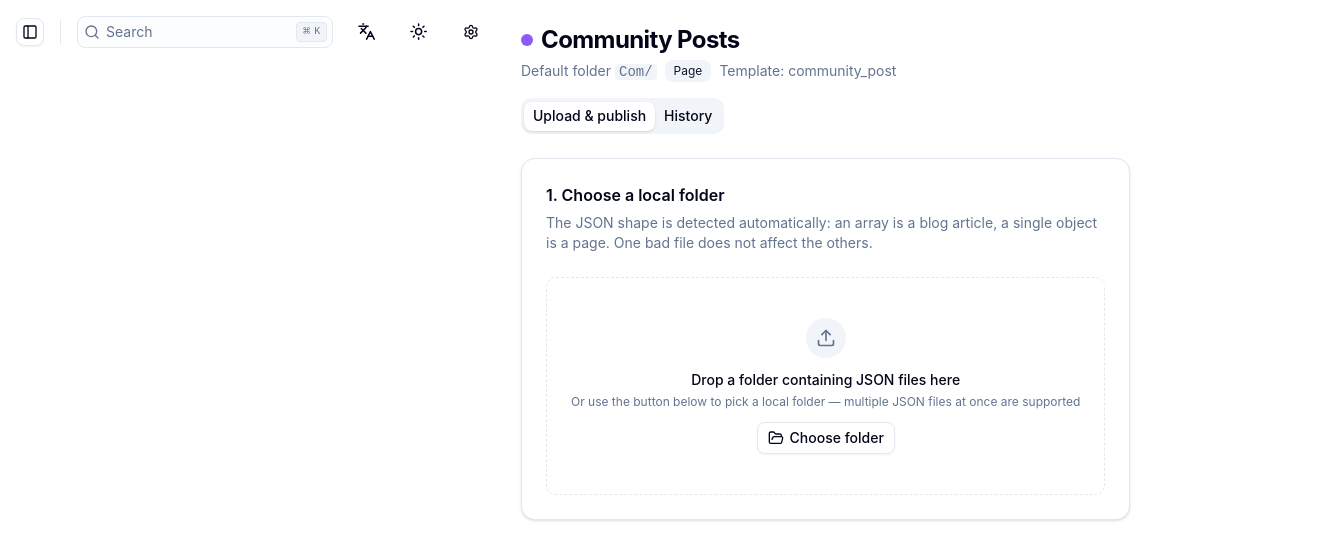
Test: 栏目页语言切换 › 英文：英文文案 + 配置里的英文栏目名
Check: the heading "Community Posts" is shown, box x1=521 y1=25 x2=740 y2=54
Check: the tab "Upload & publish" is shown, box x1=524 y1=102 x2=655 y2=130
Click the tab "History" at (688, 116), box x1=655 y1=102 x2=721 y2=130
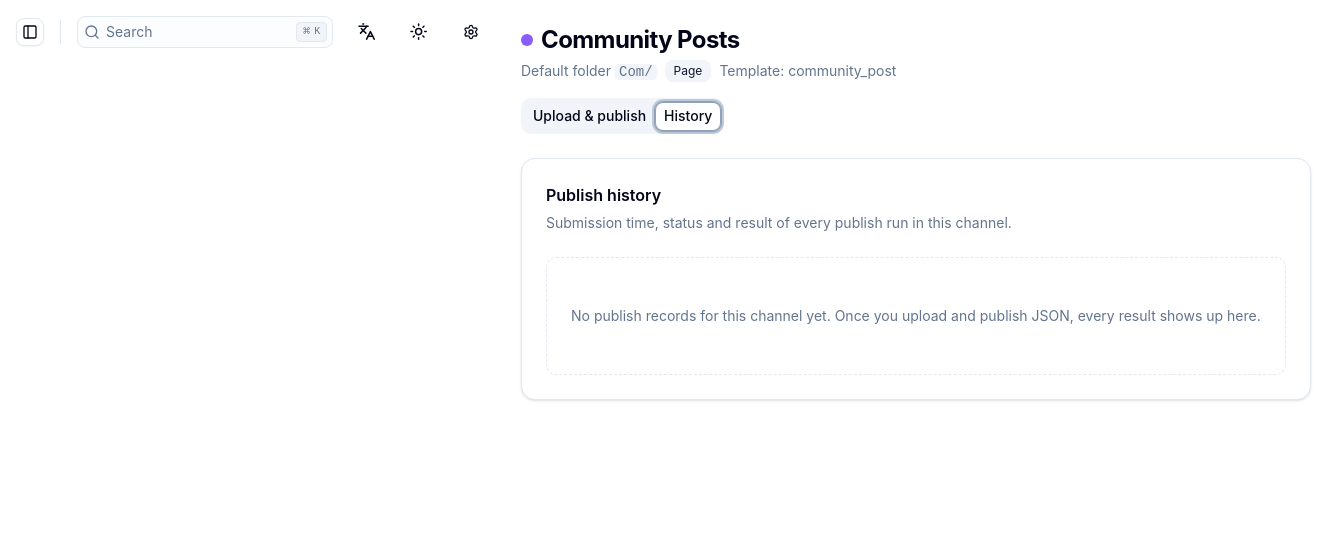
Check: the text "Publish history" is shown, box x1=546 y1=185 x2=661 y2=205
